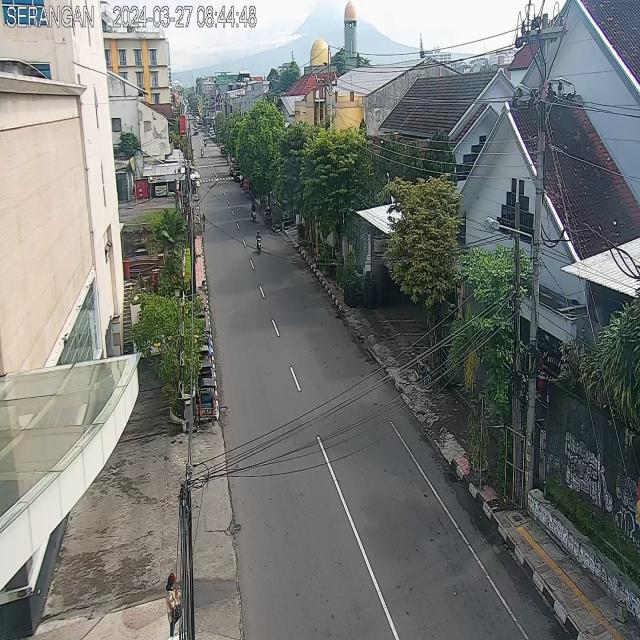motorcycle: (253, 226, 264, 256), (250, 200, 257, 224), (265, 205, 271, 228), (200, 147, 204, 158), (204, 138, 208, 146)
